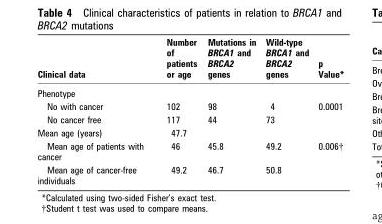table: (36, 37, 343, 185)
table column: (36, 37, 154, 185), (201, 37, 260, 185), (260, 37, 312, 185), (154, 37, 201, 185), (312, 37, 343, 185)
table column header: (36, 37, 343, 83)
table projected row header: (36, 83, 343, 99)
table row: (36, 37, 343, 83), (36, 139, 343, 163), (36, 163, 343, 185), (36, 83, 343, 99), (36, 112, 343, 126), (36, 99, 343, 112), (36, 126, 343, 139)
